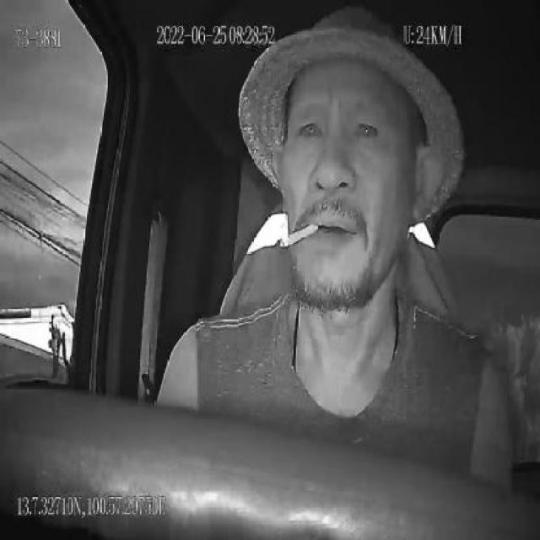smoking: (281, 220, 319, 251)
